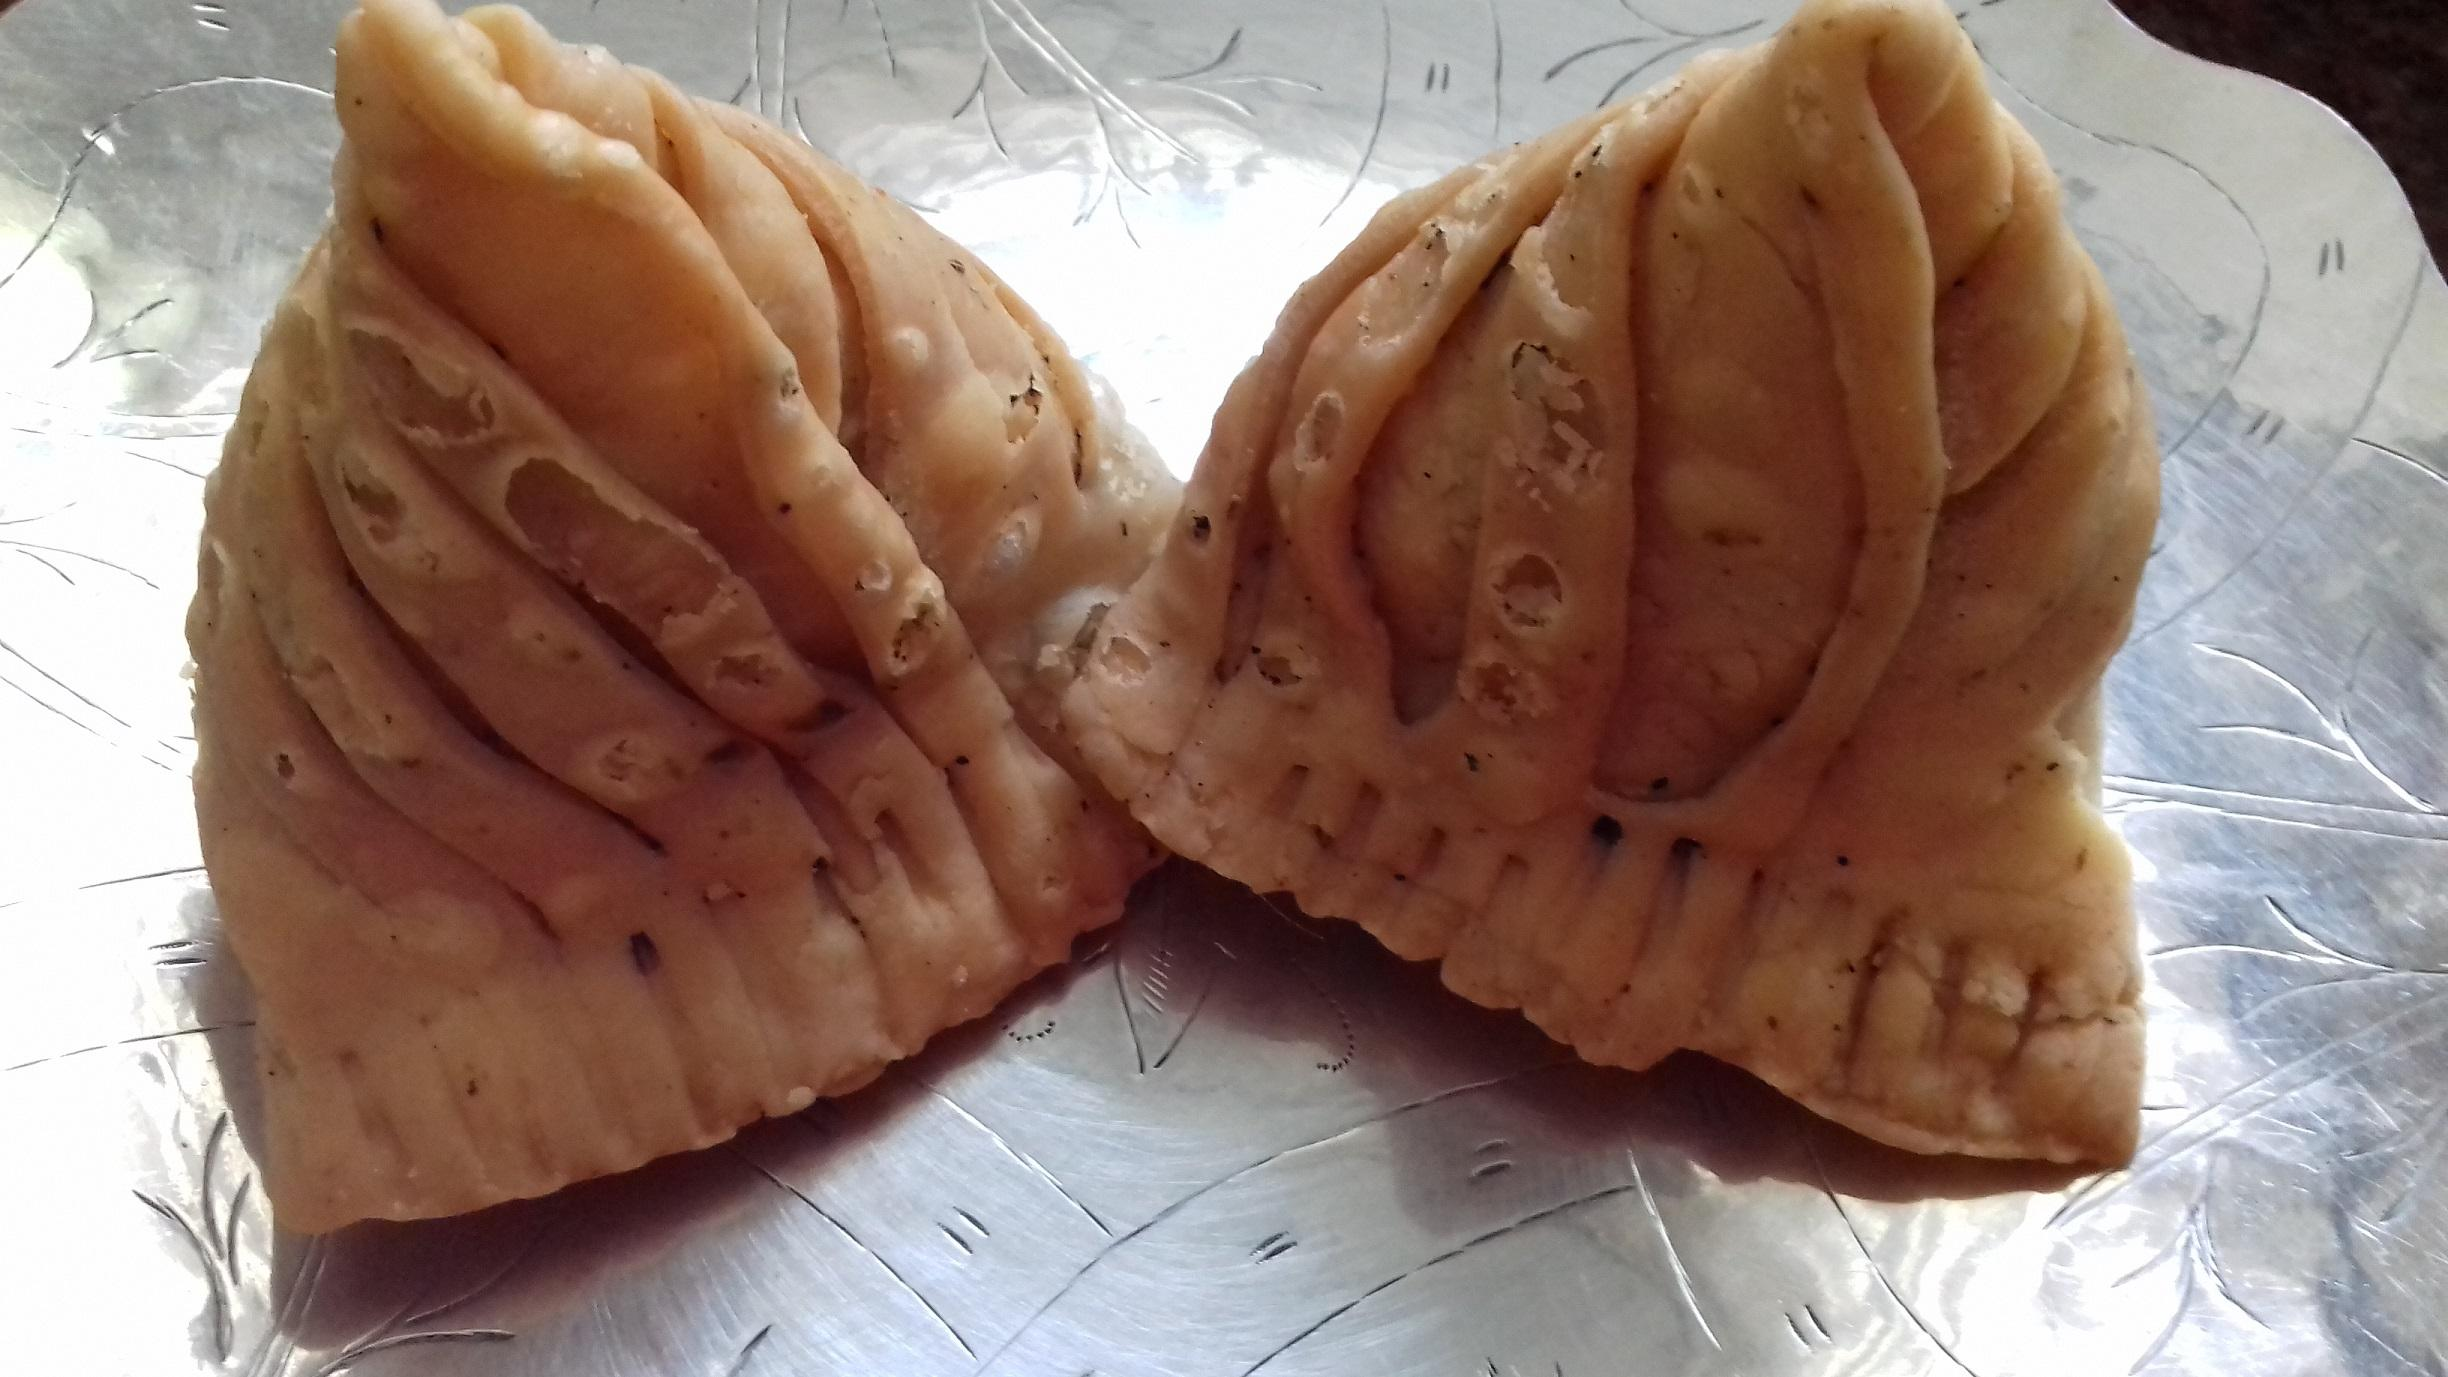samosa: (1066, 5, 2156, 1162), (191, 0, 1176, 1234)
